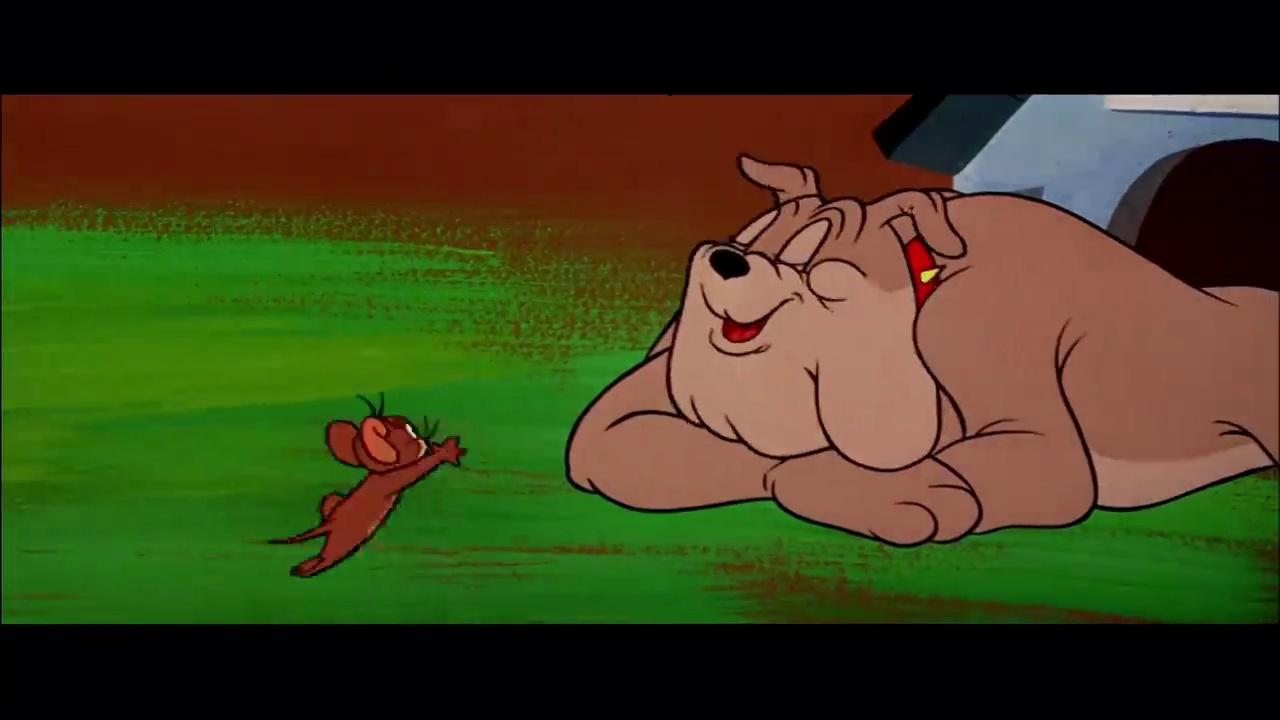Jerry: (262, 390, 470, 581)
